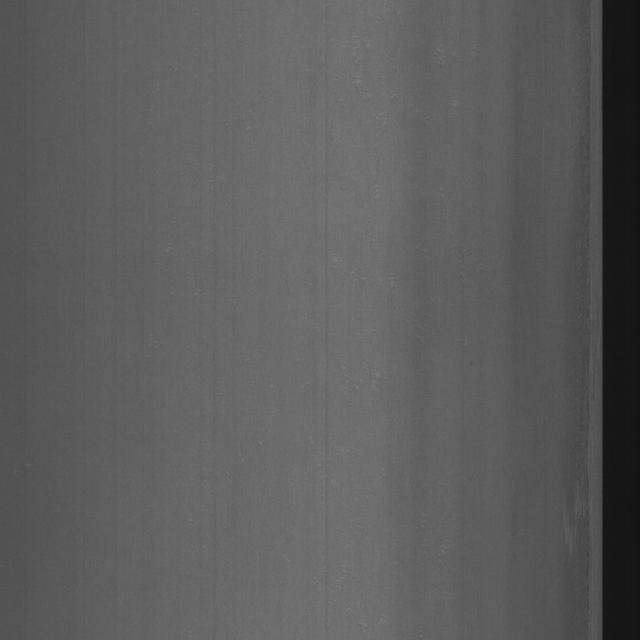inclusion: (564, 166, 598, 566)
